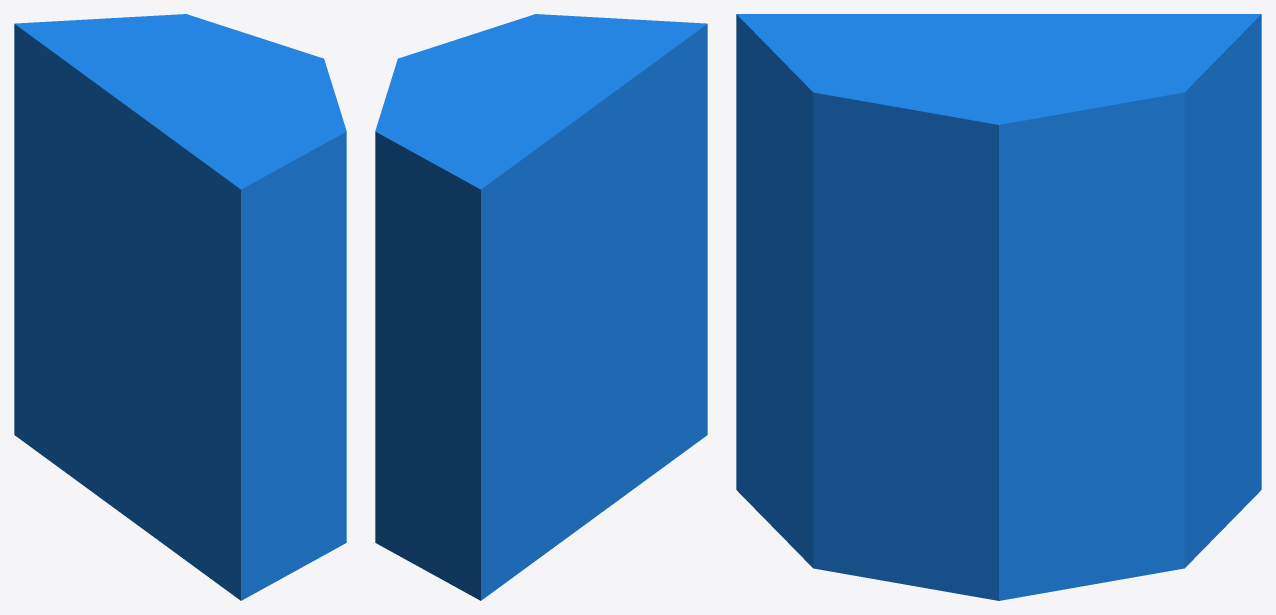
The model's file is Proto_Block_Octagon_Half_01.fbx.
3 views of the same model, side by side, from view 1: azimuth 30°, elevation 25°; view 2: azimuth 150°, elevation 25°; view 3: azimuth 270°, elevation 25° (orthographic). The views are drawn at different scales.
Visible parts, largest first — view 1: Proto_Block_Octagon_Half_01; view 2: Proto_Block_Octagon_Half_01; view 3: Proto_Block_Octagon_Half_01.
Part boxes in pixels (x1,y1,x2,y2): Proto_Block_Octagon_Half_01: (14, 14, 346, 600); Proto_Block_Octagon_Half_01: (375, 14, 707, 600); Proto_Block_Octagon_Half_01: (736, 14, 1261, 600).
Size of the model in its own units: 0.5 by 1 by 1.
